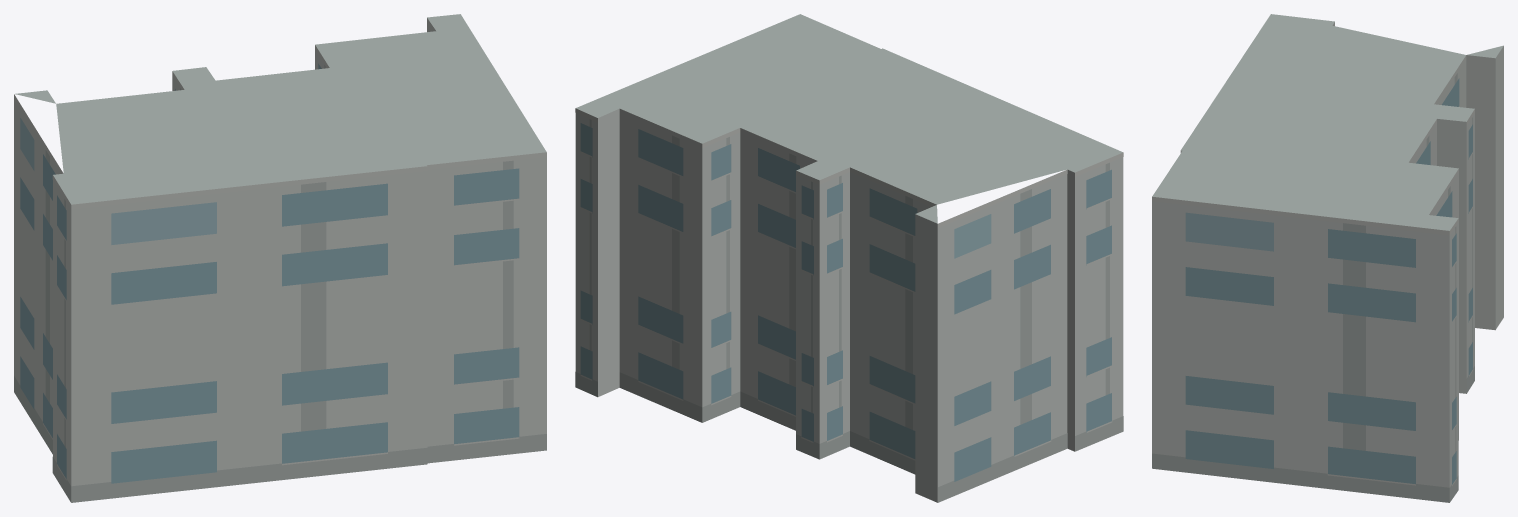
File: survey-upis-32711183.glb
3 views of the same model, side by side, from view 1: azimuth 30°, elevation 25°; view 2: azimuth 150°, elevation 25°; view 3: azimuth 270°, elevation 25° (orthographic). The views are drawn at different scales.
Parts seen in each view (by area): view 1: survey-upis-32711183.tmp; view 2: survey-upis-32711183.tmp; view 3: survey-upis-32711183.tmp.
Part boxes in pixels (bbox=[...]): survey-upis-32711183.tmp: bbox=[14, 14, 546, 502]; survey-upis-32711183.tmp: bbox=[575, 14, 1123, 502]; survey-upis-32711183.tmp: bbox=[1152, 14, 1503, 502].
Bounding box in the file's own units: 25.67 × 15 × 17.59.
